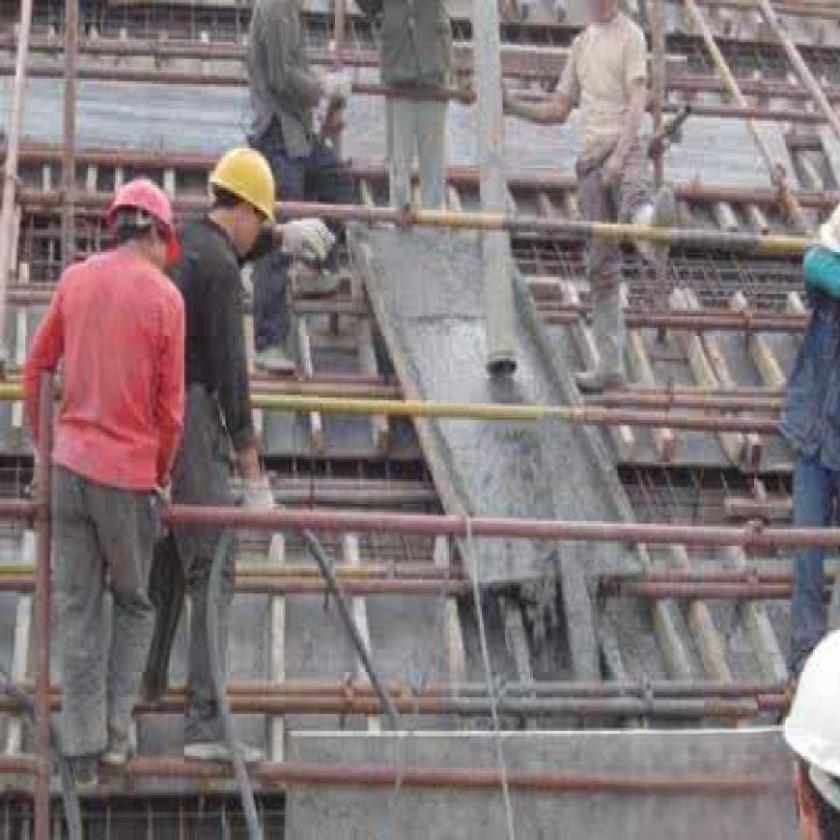Con_casco: (206, 137, 288, 269), (99, 171, 186, 279)
